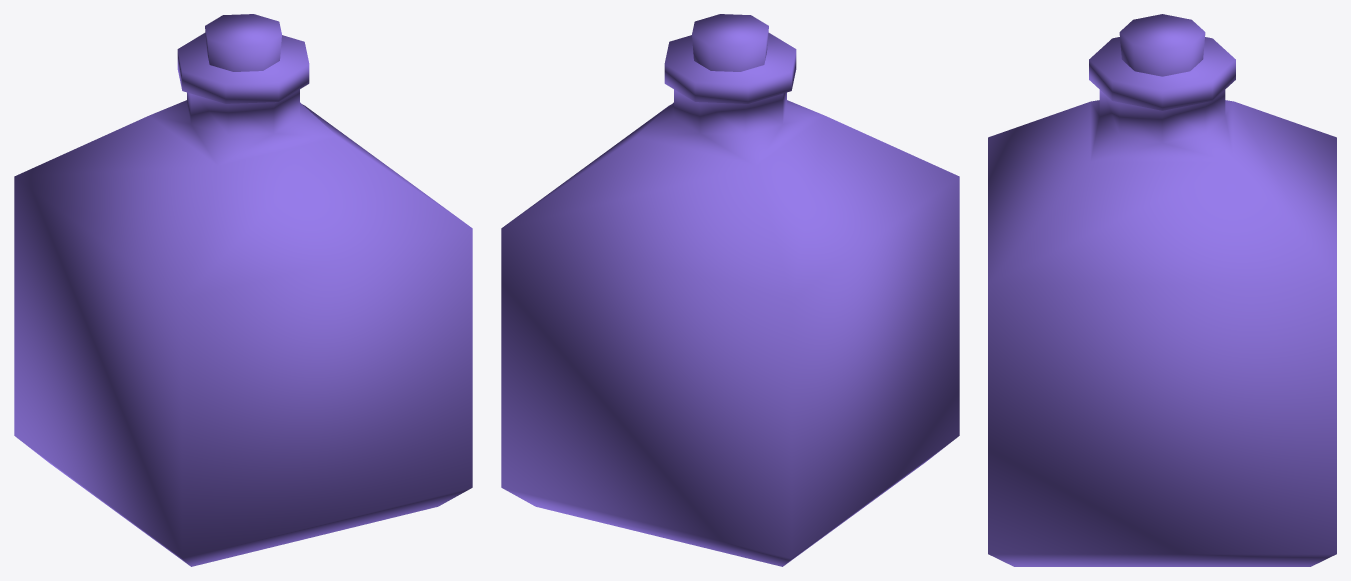
File: bottle1_lowpoly.fbx
3 renders of one model, left to right at view 1: azimuth 30°, elevation 25°; view 2: azimuth 150°, elevation 25°; view 3: azimuth 270°, elevation 25°, orthographic. The views are drawn at different scales.
Parts seen in each view (by area): view 1: bottle1.lowpoly; view 2: bottle1.lowpoly; view 3: bottle1.lowpoly.
Boxes of the visible parts, <box> form: bottle1.lowpoly: <box>14,14,472,566</box>; bottle1.lowpoly: <box>501,14,959,566</box>; bottle1.lowpoly: <box>988,14,1336,566</box>.
Bounding box in the file's own units: 7.92 × 11.83 × 7.92.
